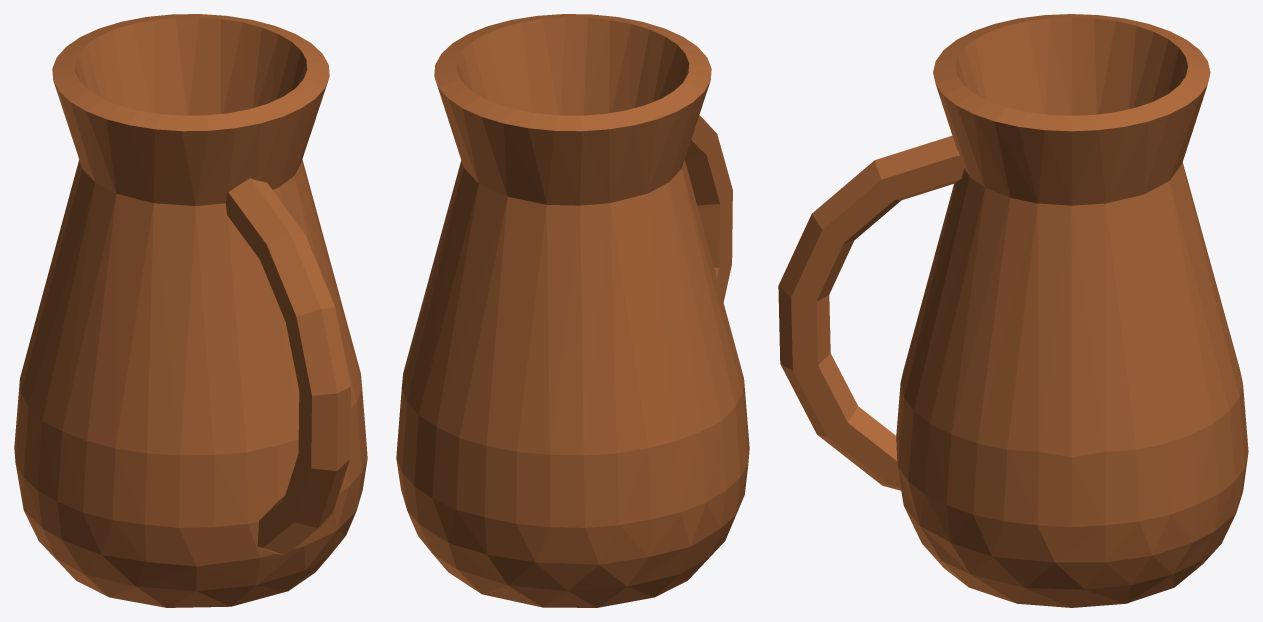
The model's file is Pottery 8_2b.fbx.
3 renders of one model, left to right at view 1: azimuth 30°, elevation 25°; view 2: azimuth 150°, elevation 25°; view 3: azimuth 270°, elevation 25°, orthographic.
Parts seen in each view (by area): view 1: Pottery 8_2b.007, Pottery 8_2b.003, Pottery 8_2b, Pottery 8_2b.004, Pottery 8_2b.005, Pottery 8_2b.006, Pottery 8_2b.001; view 2: Pottery 8_2b.004, Pottery 8_2b.001, Pottery 8_2b.003, Pottery 8_2b.002, Pottery 8_2b.007, Pottery 8_2b, Pottery 8_2b.005, Pottery 8_2b.006; view 3: Pottery 8_2b.005, Pottery 8_2b.006, Pottery 8_2b.007, Pottery 8_2b.004, Pottery 8_2b.002, Pottery 8_2b, Pottery 8_2b.003.
Boxes of the visible parts, left/top/right/bottom form: Pottery 8_2b.007: left=143, top=88, right=350, bottom=585; Pottery 8_2b.003: left=21, top=73, right=153, bottom=440; Pottery 8_2b: left=24, top=366, right=345, bottom=607; Pottery 8_2b.004: left=52, top=14, right=225, bottom=250; Pottery 8_2b.005: left=221, top=16, right=328, bottom=113; Pottery 8_2b.006: left=294, top=60, right=367, bottom=535; Pottery 8_2b.001: left=14, top=344, right=86, bottom=527; Pottery 8_2b.004: left=434, top=79, right=657, bottom=415; Pottery 8_2b.001: left=487, top=386, right=742, bottom=564; Pottery 8_2b.003: left=615, top=58, right=742, bottom=440; Pottery 8_2b.002: left=396, top=291, right=555, bottom=554; Pottery 8_2b.007: left=560, top=14, right=732, bottom=301; Pottery 8_2b: left=407, top=331, right=749, bottom=607; Pottery 8_2b.005: left=396, top=26, right=511, bottom=456; Pottery 8_2b.006: left=489, top=14, right=565, bottom=115; Pottery 8_2b.005: left=1004, top=101, right=1191, bottom=562; Pottery 8_2b.006: left=908, top=94, right=1037, bottom=574; Pottery 8_2b.007: left=778, top=27, right=1012, bottom=504; Pottery 8_2b.004: left=1099, top=18, right=1235, bottom=356; Pottery 8_2b.002: left=1153, top=321, right=1248, bottom=555; Pottery 8_2b: left=903, top=482, right=1235, bottom=607; Pottery 8_2b.003: left=984, top=14, right=1124, bottom=115.
Bounding box in the file's own units: 30.34 × 45.97 × 40.35.
